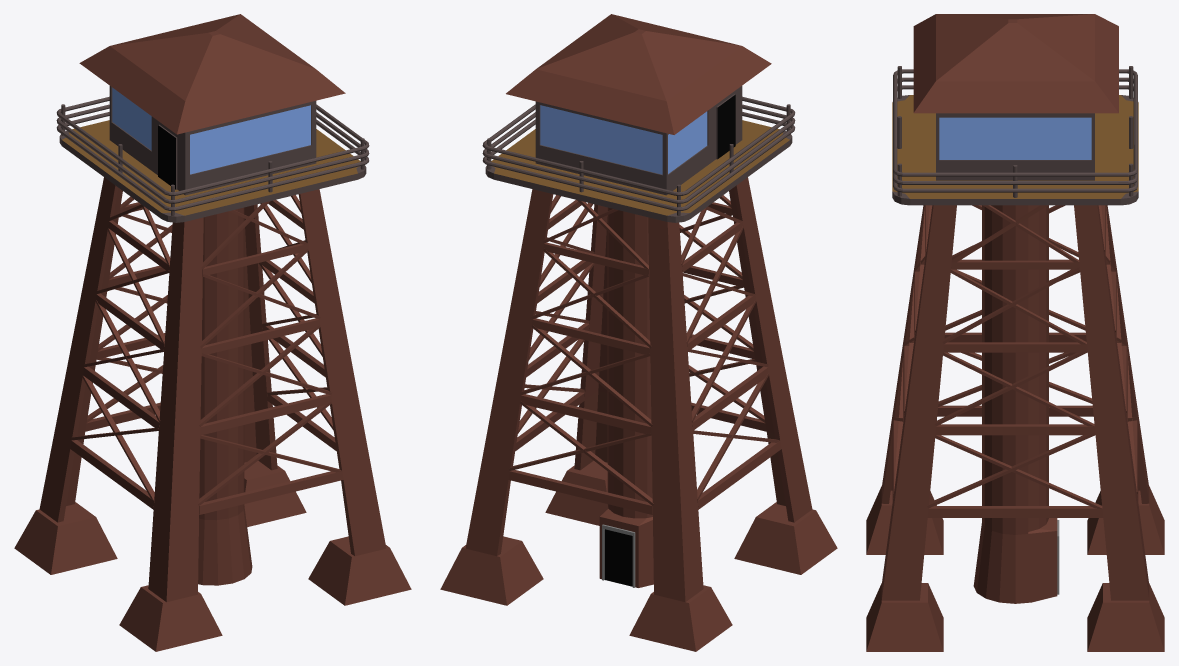
The model's file is FireWatchTower.fbx.
The picture shows the model from 3 angles, left to right: view 1: azimuth 30°, elevation 25°; view 2: azimuth 150°, elevation 25°; view 3: azimuth 270°, elevation 25°; orthographic projection. The views are drawn at different scales.
Visible parts, largest first — view 1: Tower; view 2: Tower; view 3: Tower.
Boxes of the visible parts, left/top/right/bottom form: Tower: left=14, top=14, right=411, bottom=651; Tower: left=440, top=14, right=837, bottom=651; Tower: left=866, top=14, right=1164, bottom=651.
Bounding box in the file's own units: 253 × 507 × 242.
